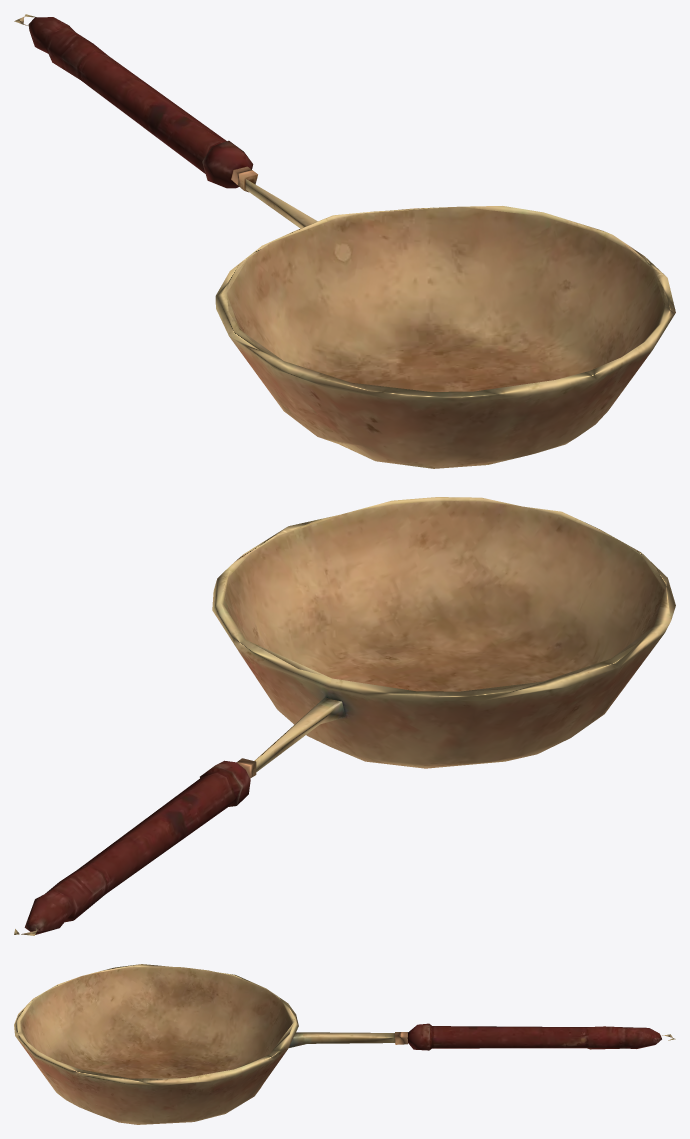
Rendered from brass_pan_01.glb.
3 renders of one model, top to bottom at view 1: azimuth 30°, elevation 25°; view 2: azimuth 150°, elevation 25°; view 3: azimuth 270°, elevation 25°, orthographic. The views are drawn at different scales.
Visible parts, largest first — view 1: brass_pan_01; view 2: brass_pan_01; view 3: brass_pan_01.
Part boxes in pixels (x1,y1,x2,y2): brass_pan_01: (14,14,675,468); brass_pan_01: (14,497,675,935); brass_pan_01: (14,964,675,1124).
Bounding box in the file's own units: 0.1897 × 0.0517 × 0.4494.
Materials: 1 (1 with a texture image).
